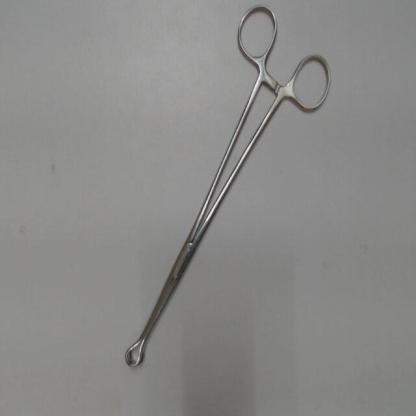8 Babcock Tissue Forceps: (122, 0, 336, 373)
